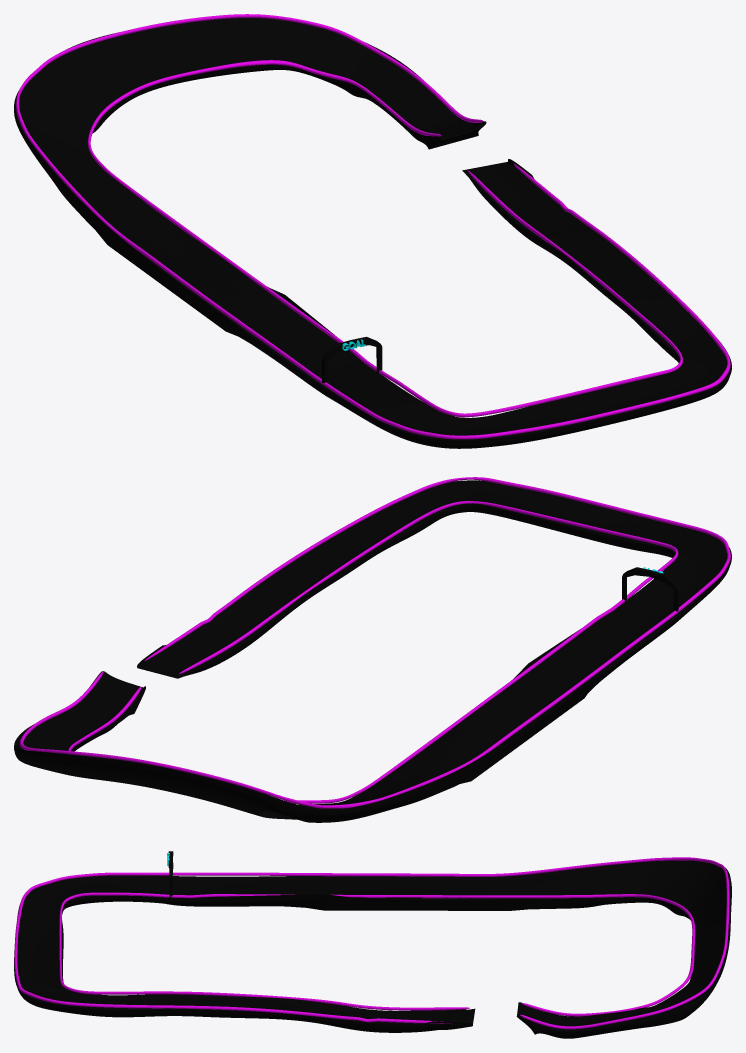
Rendered from Track.fbx.
3 views of the same model, one above another, from view 1: azimuth 30°, elevation 25°; view 2: azimuth 150°, elevation 25°; view 3: azimuth 270°, elevation 25° (orthographic). The views are drawn at different scales.
Visible parts, largest first — view 1: Cube, Cube.003, Cube.001; view 2: Cube, Cube.003, Cube.001; view 3: Cube, Cube.003.
Part boxes in pixels (left/top/right/bottom): Cube: left=14, top=18, right=731, bottom=448; Cube.003: left=16, top=14, right=730, bottom=439; Cube.001: left=322, top=336, right=382, bottom=382; Cube: left=14, top=480, right=731, bottom=822; Cube.003: left=19, top=477, right=730, bottom=808; Cube.001: left=622, top=567, right=678, bottom=611; Cube: left=14, top=860, right=731, bottom=1038; Cube.003: left=14, top=857, right=729, bottom=1029.
Size of the model in its own units: 21593 by 4400 by 43657.
